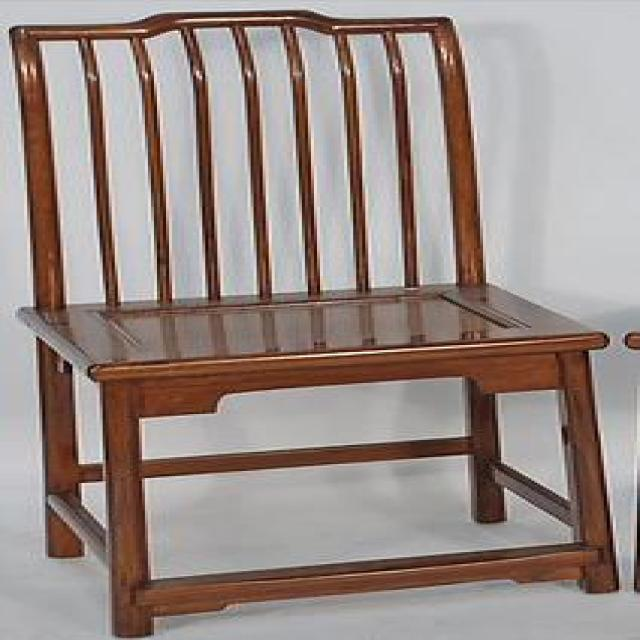chair: (10, 7, 623, 640)
